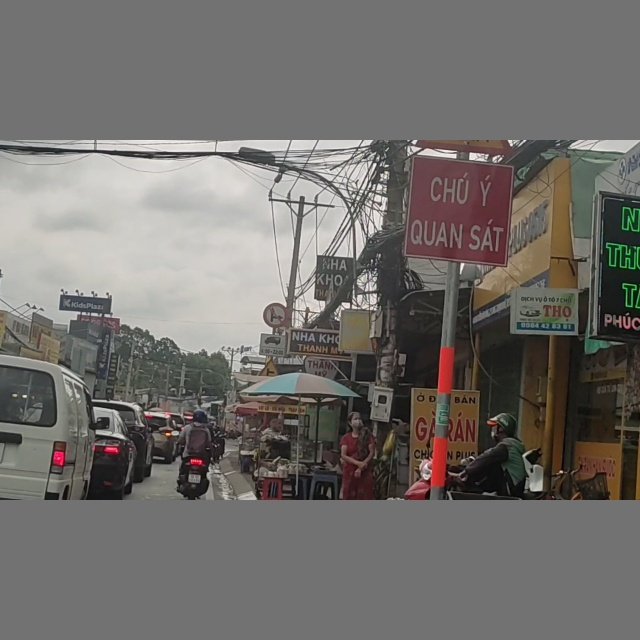P.139: (260, 301, 289, 330)
S.505a*Xe tai: (258, 333, 289, 355)
W.205b: (256, 357, 284, 377)
